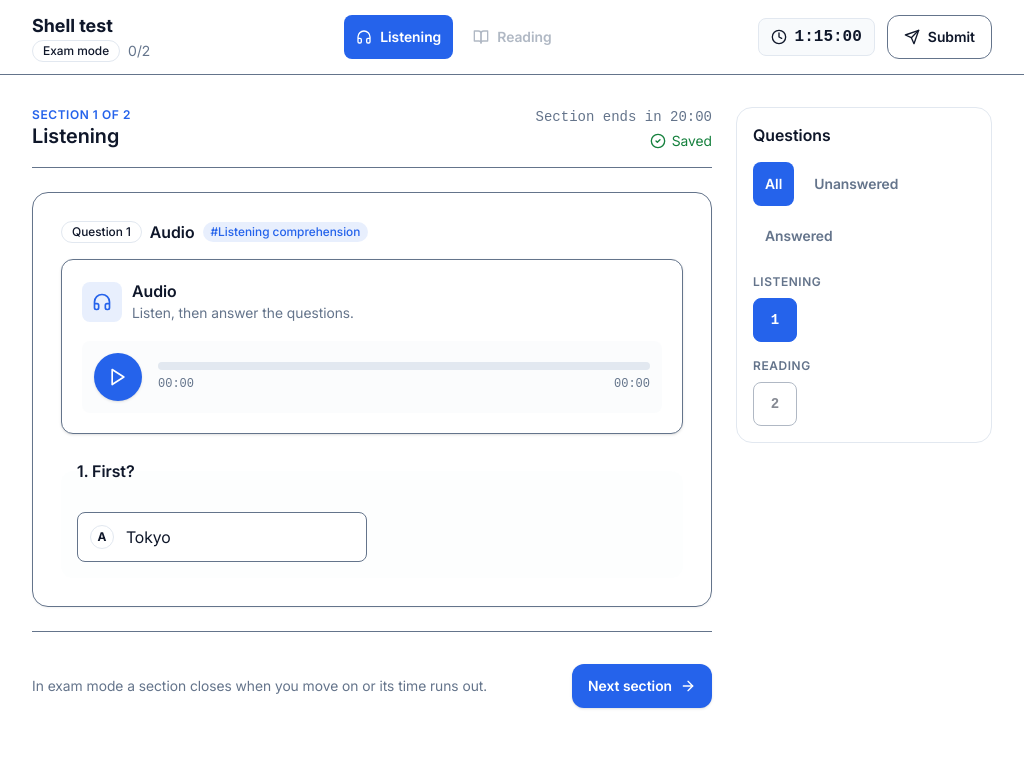
Test: exam sitting shell › shows the remaining-question count in submit confirmation
Click the button "Submit" at [939, 37], box left=887, top=15, right=992, bottom=59
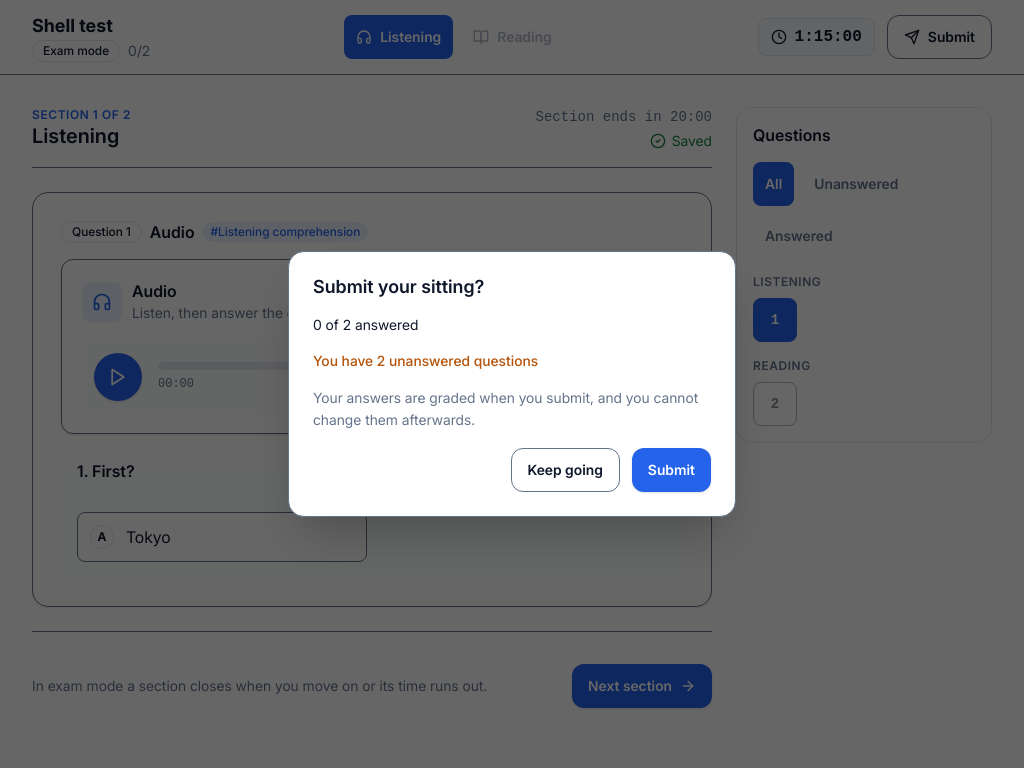
expect the text "You have 2 unanswered questions" is shown: met, box left=313, top=352, right=538, bottom=368
